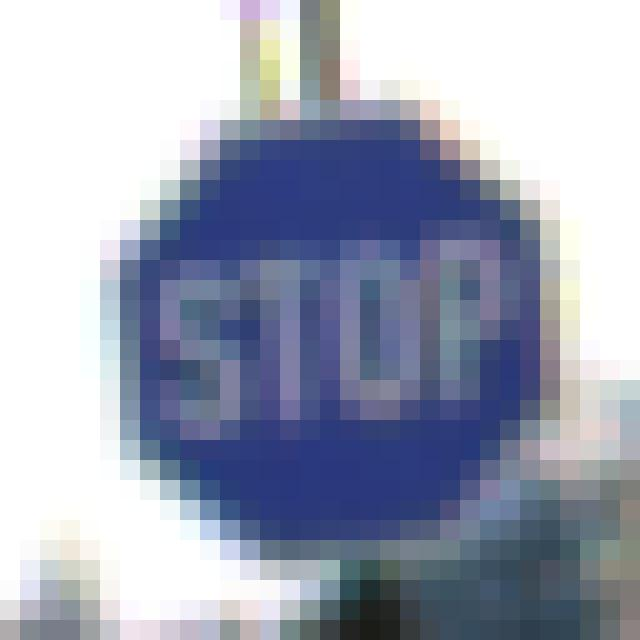STOP: (120, 113, 548, 550)
